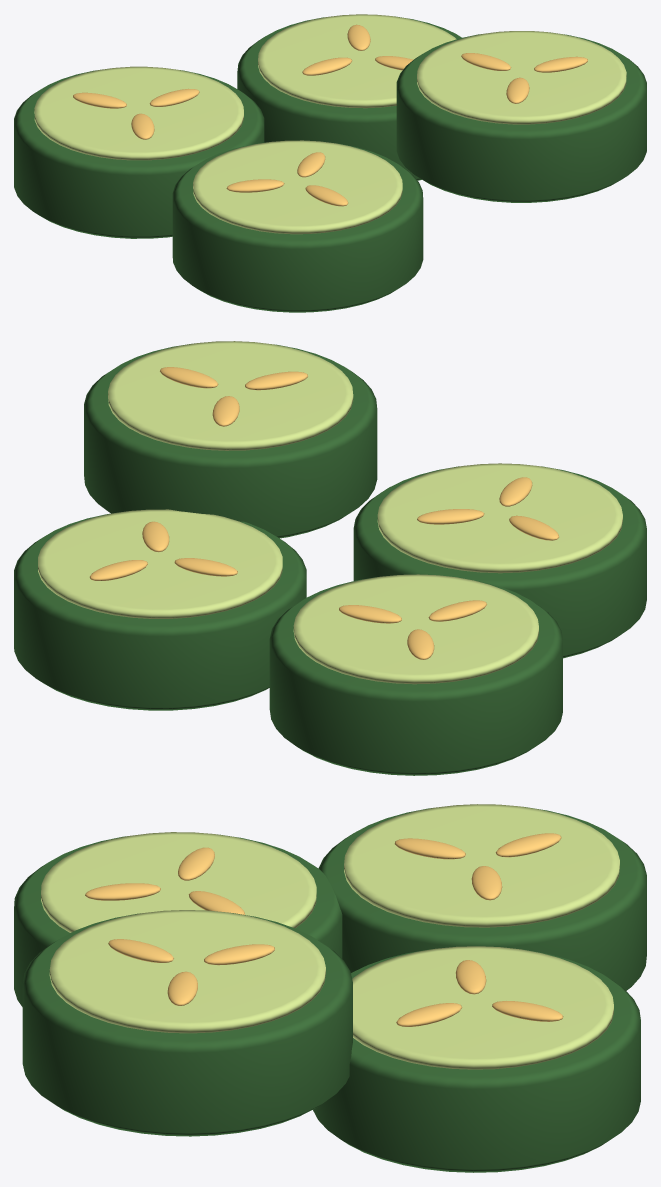
The model's file is cucumber-chopped.obj.
3 renders of one model, top to bottom at view 1: azimuth 30°, elevation 25°; view 2: azimuth 150°, elevation 25°; view 3: azimuth 270°, elevation 25°, orthographic. The views are drawn at different scales.
Visible parts, largest first — view 1: cucumber-chopped_cucumber, cucumber-chopped_cucumberFlesh, cucumber-chopped_seed; view 2: cucumber-chopped_cucumber, cucumber-chopped_cucumberFlesh, cucumber-chopped_seed; view 3: cucumber-chopped_cucumber, cucumber-chopped_cucumberFlesh, cucumber-chopped_seed.
Part boxes in pixels (bbox=[...]): cucumber-chopped_cucumber: bbox=[14, 16, 646, 312]; cucumber-chopped_cucumberFlesh: bbox=[34, 14, 626, 234]; cucumber-chopped_seed: bbox=[73, 24, 587, 206]; cucumber-chopped_cucumber: bbox=[14, 343, 646, 775]; cucumber-chopped_cucumberFlesh: bbox=[38, 341, 622, 684]; cucumber-chopped_seed: bbox=[89, 367, 559, 659]; cucumber-chopped_cucumber: bbox=[14, 806, 646, 1172]; cucumber-chopped_cucumberFlesh: bbox=[41, 804, 619, 1069]; cucumber-chopped_seed: bbox=[85, 833, 563, 1026].
Size of the model in its own units: 0.247 by 0.066 by 0.2109.
